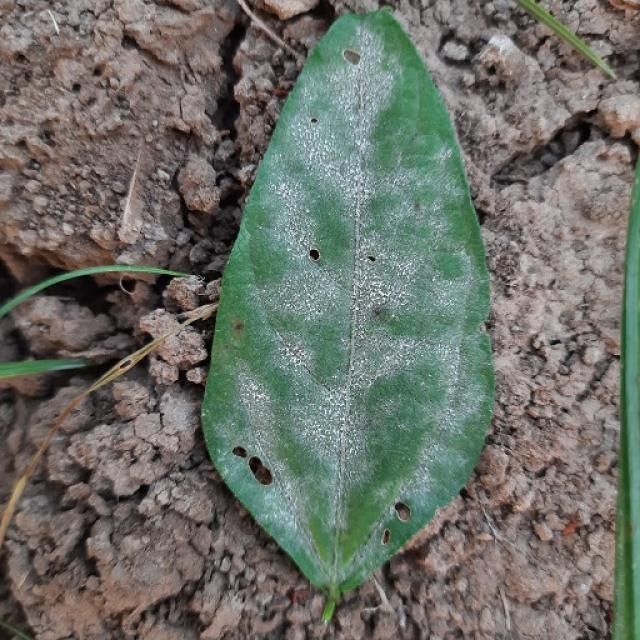Powdery_Mildew: (288, 122, 398, 213), (253, 461, 335, 561), (324, 29, 409, 125), (299, 384, 385, 475), (361, 327, 469, 388), (417, 391, 469, 498), (266, 161, 320, 260), (357, 248, 424, 319), (274, 260, 340, 317), (239, 372, 274, 440), (275, 339, 316, 380)
